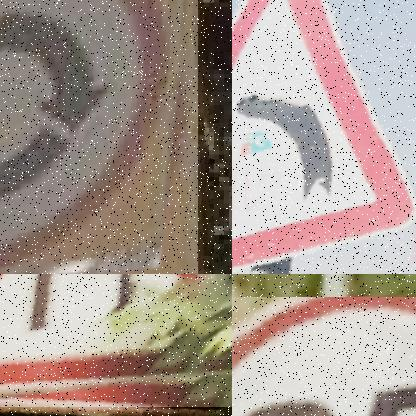Left bend: (232, 0, 416, 274)
Speed Limit -25 kmph-: (232, 298, 416, 416)
